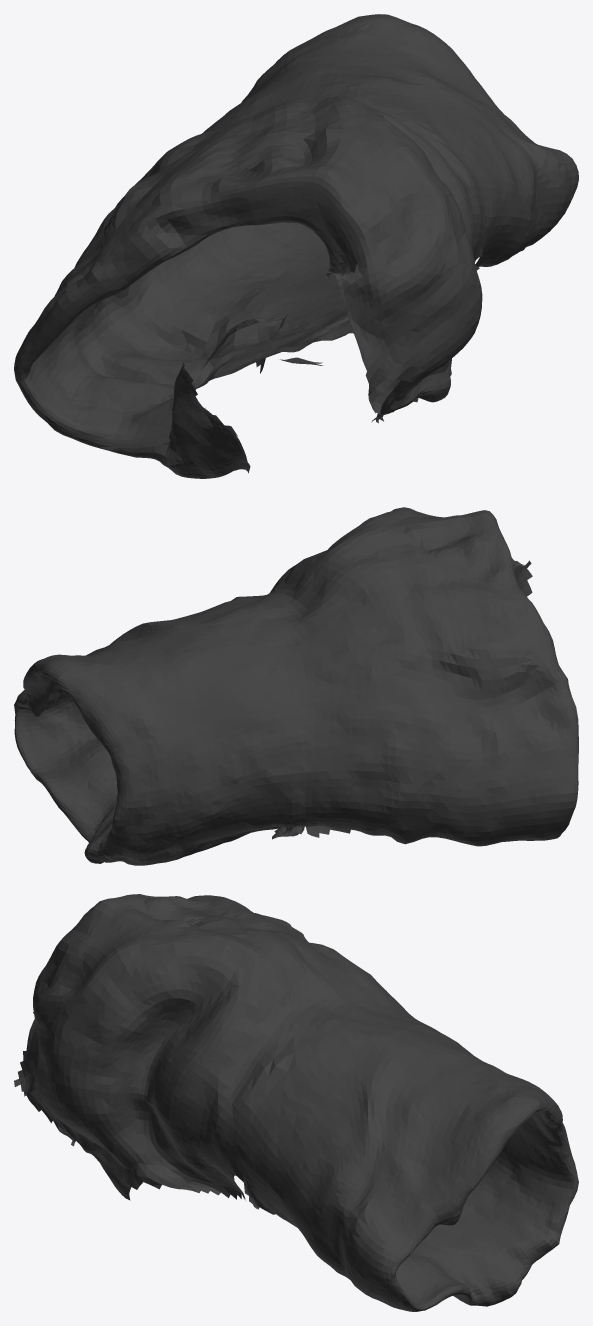
3 renders of one model, top to bottom at view 1: azimuth 30°, elevation 25°; view 2: azimuth 150°, elevation 25°; view 3: azimuth 270°, elevation 25°, orthographic. The views are drawn at different scales.
Parts seen in each view (by area): view 1: Group4766; view 2: Group4766; view 3: Group4766.
Boxes of the visible parts, x1=… form: Group4766: x1=14, y1=14, x2=578, y2=478; Group4766: x1=14, y1=507, x2=578, y2=865; Group4766: x1=14, y1=894, x2=578, y2=1311.
Size of the model in its own units: 0.2013 by 0.1026 by 0.1772.
Materials: 1 (1 with a texture image).
